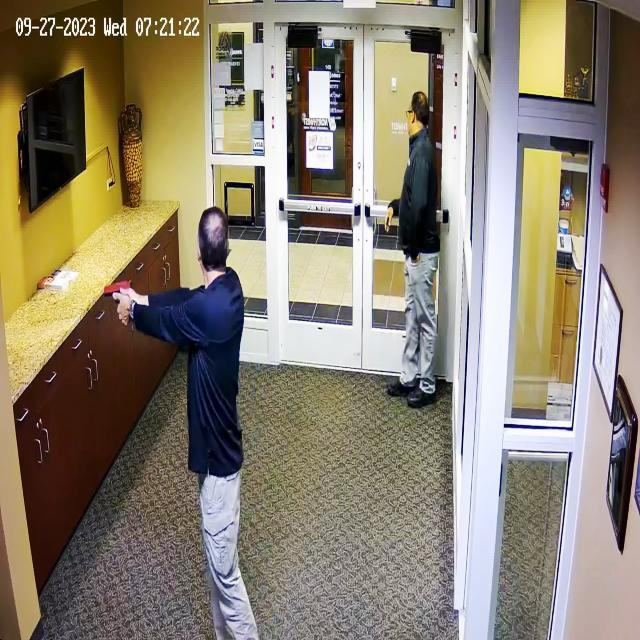Gun: (100, 276, 138, 312)
